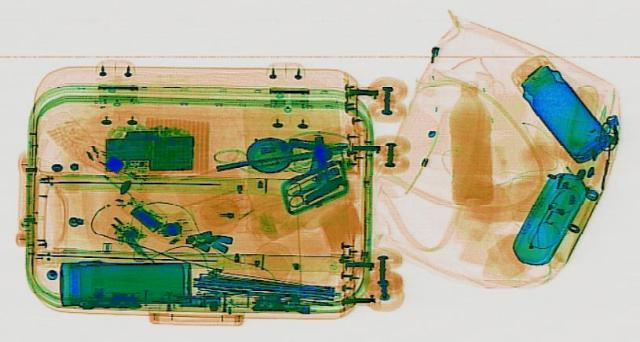Scissors: (268, 172, 340, 206)
